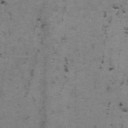oxide scale of temperature system: (94, 60, 128, 128), (25, 48, 48, 128), (102, 3, 128, 36), (35, 18, 66, 40), (62, 56, 69, 80), (0, 0, 6, 5), (0, 52, 3, 58)
